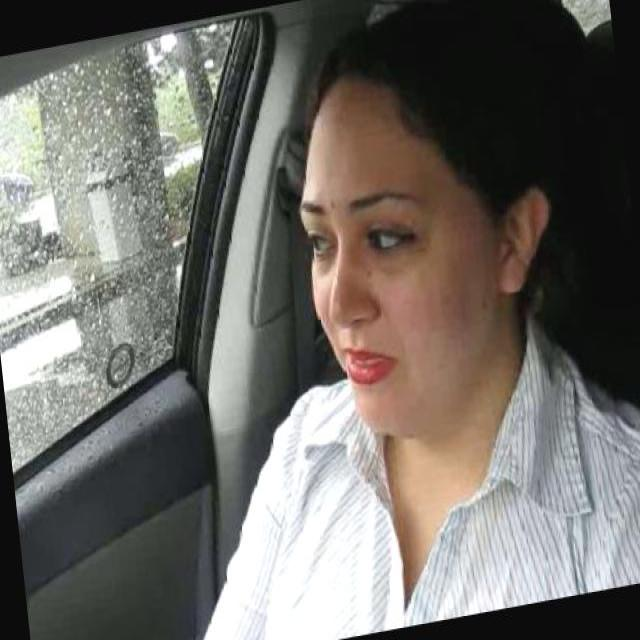no-seatbelt: (278, 364, 557, 620)
